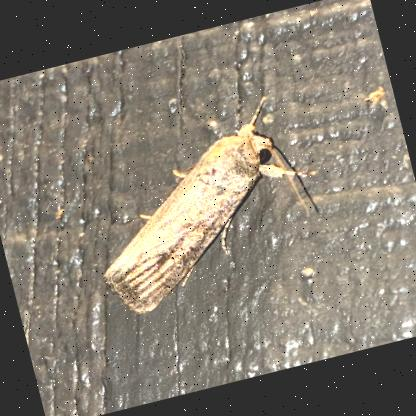Fall Armyworm Moth: (68, 84, 344, 323)
